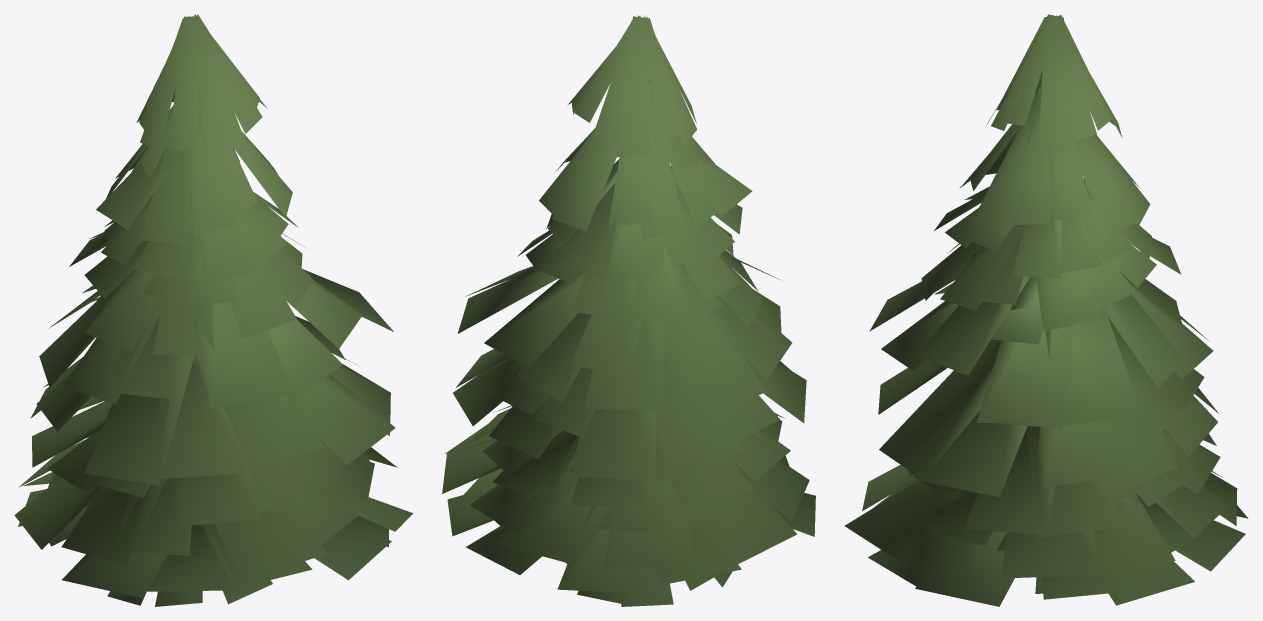
Rendered from cmc_lodgepolespruce_LOD_1.fbx.
3 renders of one model, left to right at view 1: azimuth 30°, elevation 25°; view 2: azimuth 150°, elevation 25°; view 3: azimuth 270°, elevation 25°, orthographic.
Visible parts, largest first — view 1: lodgepole_spruce_leaves; view 2: lodgepole_spruce_leaves; view 3: lodgepole_spruce_leaves.
Boxes of the visible parts, left/top/right/bottom form: lodgepole_spruce_leaves: left=14, top=14, right=412, bottom=606; lodgepole_spruce_leaves: left=442, top=15, right=815, bottom=606; lodgepole_spruce_leaves: left=845, top=14, right=1248, bottom=606.
Size of what is drawn, in the model's own units: 11.08 by 17.68 by 11.57.
